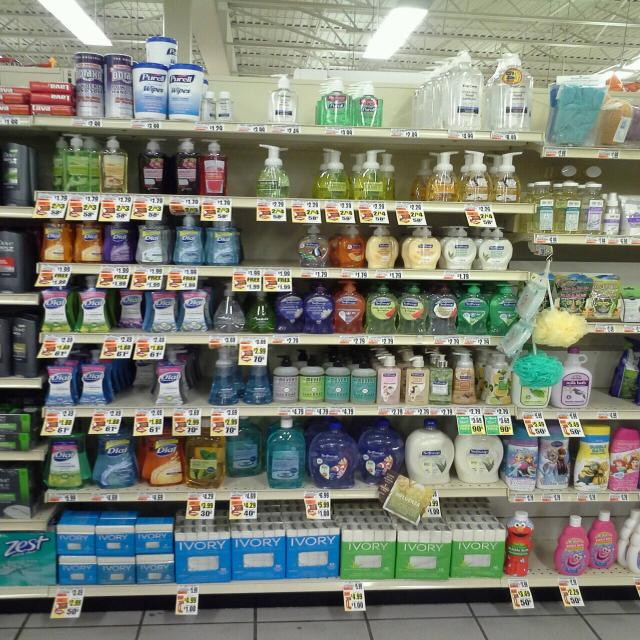void: (390, 46, 448, 136), (390, 142, 427, 208), (273, 208, 298, 284), (230, 137, 257, 205), (247, 211, 271, 279), (241, 64, 265, 132), (540, 510, 553, 591)
